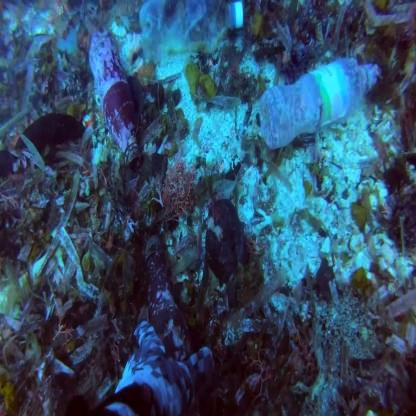gbottle: (85, 30, 176, 165), (147, 232, 209, 416)
pbottle: (236, 56, 402, 141), (138, 1, 249, 36)
